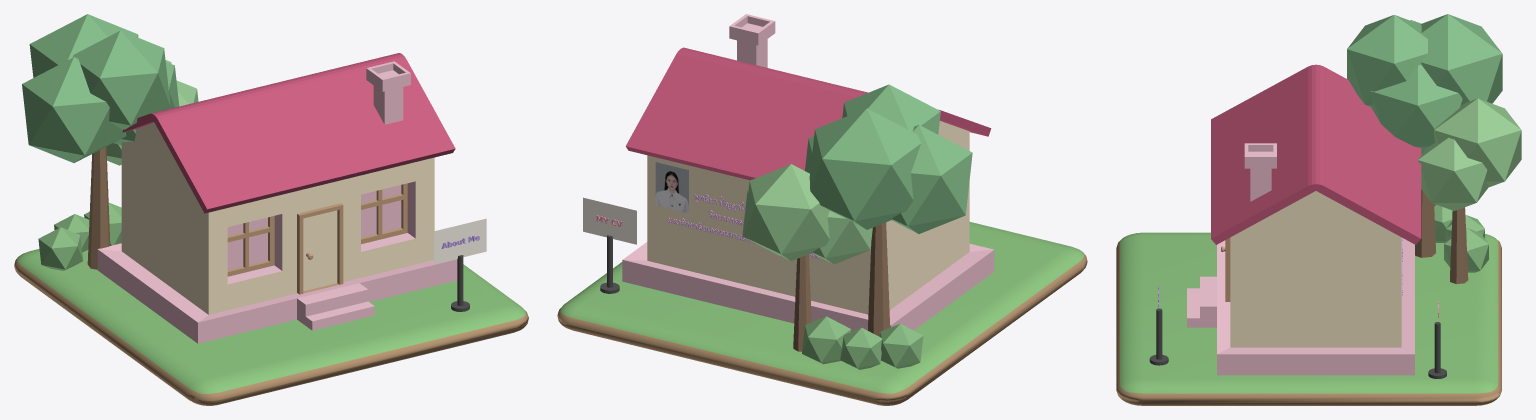
The model's file is 3DPortfolio.glb.
3 renders of one model, left to right at view 1: azimuth 30°, elevation 25°; view 2: azimuth 150°, elevation 25°; view 3: azimuth 270°, elevation 25°, orthographic. The views are drawn at different scales.
Visible parts, largest first — view 1: Door, Island_Base, Roof, Tree_A_Leaf_0, Windows, Tree_A_Leaf_3, Tree_A_Leaf_2, Tree_A_Trunk, Chimney, Photo_Screen, Bush_B_0, Bush_B_2 (+2 smaller); view 2: Island_Base, Door, Roof, Tree_A_Leaf_2, Tree_B_Leaf_2, Tree_A_Leaf_0, Tree_A_Leaf_3, Tree_A_Trunk, Tree_B_Leaf_0, Sign_Back_Board, Chimney, Bush_B_1 (+5 smaller); view 3: Island_Base, Door, Roof, Tree_A_Leaf_2, Tree_A_Leaf_3, Tree_B_Leaf_2, Tree_A_Leaf_1, Tree_B_Leaf_1, Chimney, Tree_B_Trunk, Bush_B_1, Tree_A_Trunk (+1 smaller).
Boxes of the visible parts, x1,y1,x2,y2 form: Door: [97, 122, 457, 343]; Island_Base: [14, 249, 528, 405]; Roof: [122, 53, 455, 213]; Tree_A_Leaf_0: [22, 57, 126, 162]; Windows: [227, 181, 415, 284]; Tree_A_Leaf_3: [72, 30, 170, 129]; Tree_A_Leaf_2: [29, 14, 138, 77]; Tree_A_Trunk: [87, 146, 110, 269]; Chimney: [366, 61, 410, 124]; Photo_Screen: [434, 218, 486, 264]; Bush_B_0: [38, 227, 82, 270]; Bush_B_2: [54, 214, 89, 252]; Island_Base: [557, 222, 1087, 405]; Door: [622, 121, 994, 331]; Roof: [625, 47, 991, 180]; Tree_A_Leaf_2: [809, 108, 920, 229]; Tree_B_Leaf_2: [743, 164, 829, 261]; Tree_A_Leaf_0: [892, 125, 972, 233]; Tree_A_Leaf_3: [842, 84, 940, 134]; Tree_A_Trunk: [867, 222, 890, 336]; Tree_B_Leaf_0: [812, 211, 872, 264]; Sign_Back_Board: [583, 197, 636, 244]; Chimney: [729, 14, 775, 67]; Bush_B_1: [802, 316, 851, 364]; Island_Base: [1116, 232, 1501, 405]; Door: [1187, 191, 1414, 375]; Roof: [1211, 64, 1421, 244]; Tree_A_Leaf_2: [1420, 14, 1502, 104]; Tree_A_Leaf_3: [1347, 15, 1427, 107]; Tree_B_Leaf_2: [1434, 98, 1521, 187]; Tree_A_Leaf_1: [1370, 64, 1462, 149]; Tree_B_Leaf_1: [1418, 137, 1488, 210]; Chimney: [1244, 143, 1276, 201]; Tree_B_Trunk: [1450, 207, 1468, 283]; Bush_B_1: [1444, 228, 1488, 272]; Tree_A_Trunk: [1415, 189, 1435, 257].
Size of the model in its own units: 9.57 by 6.81 by 9.46.
26 materials, 1 textured.
